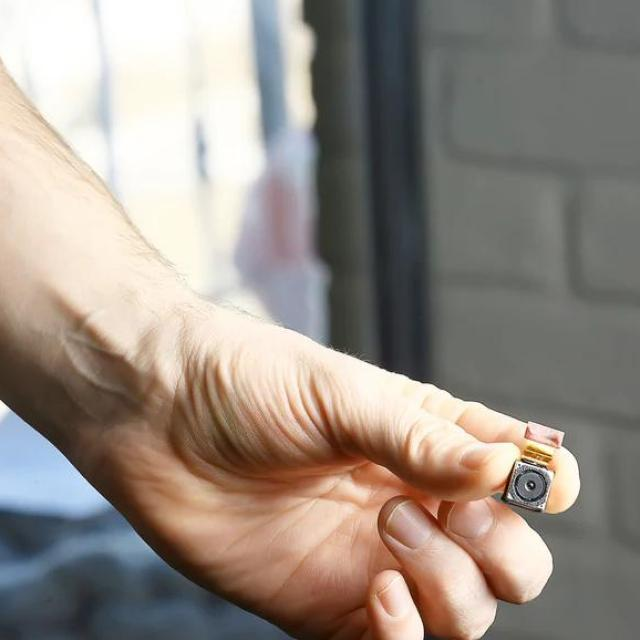hidden camera: (526, 480, 535, 491)
